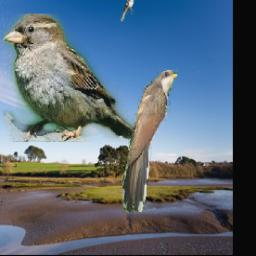Cuckoo: (122, 68, 178, 212), (120, 0, 134, 22)
Sparrow: (4, 15, 146, 143)
